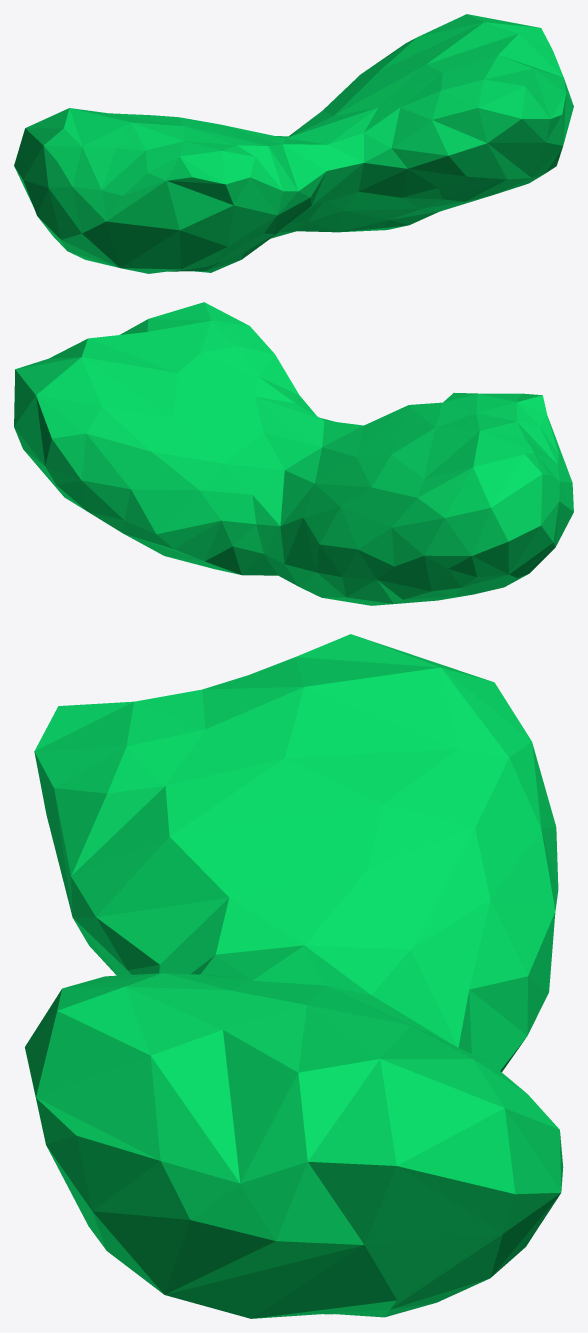
Rendered from 19-MDD-mediodorsal thalamic nucleus, dorsal part-('0.0000', '1.0000', '0.4588').obj.
3 renders of one model, top to bottom at view 1: azimuth 30°, elevation 25°; view 2: azimuth 150°, elevation 25°; view 3: azimuth 270°, elevation 25°, orthographic. The views are drawn at different scales.
Bounding box in the file's own units: 56.76 × 19.24 × 25.59.
